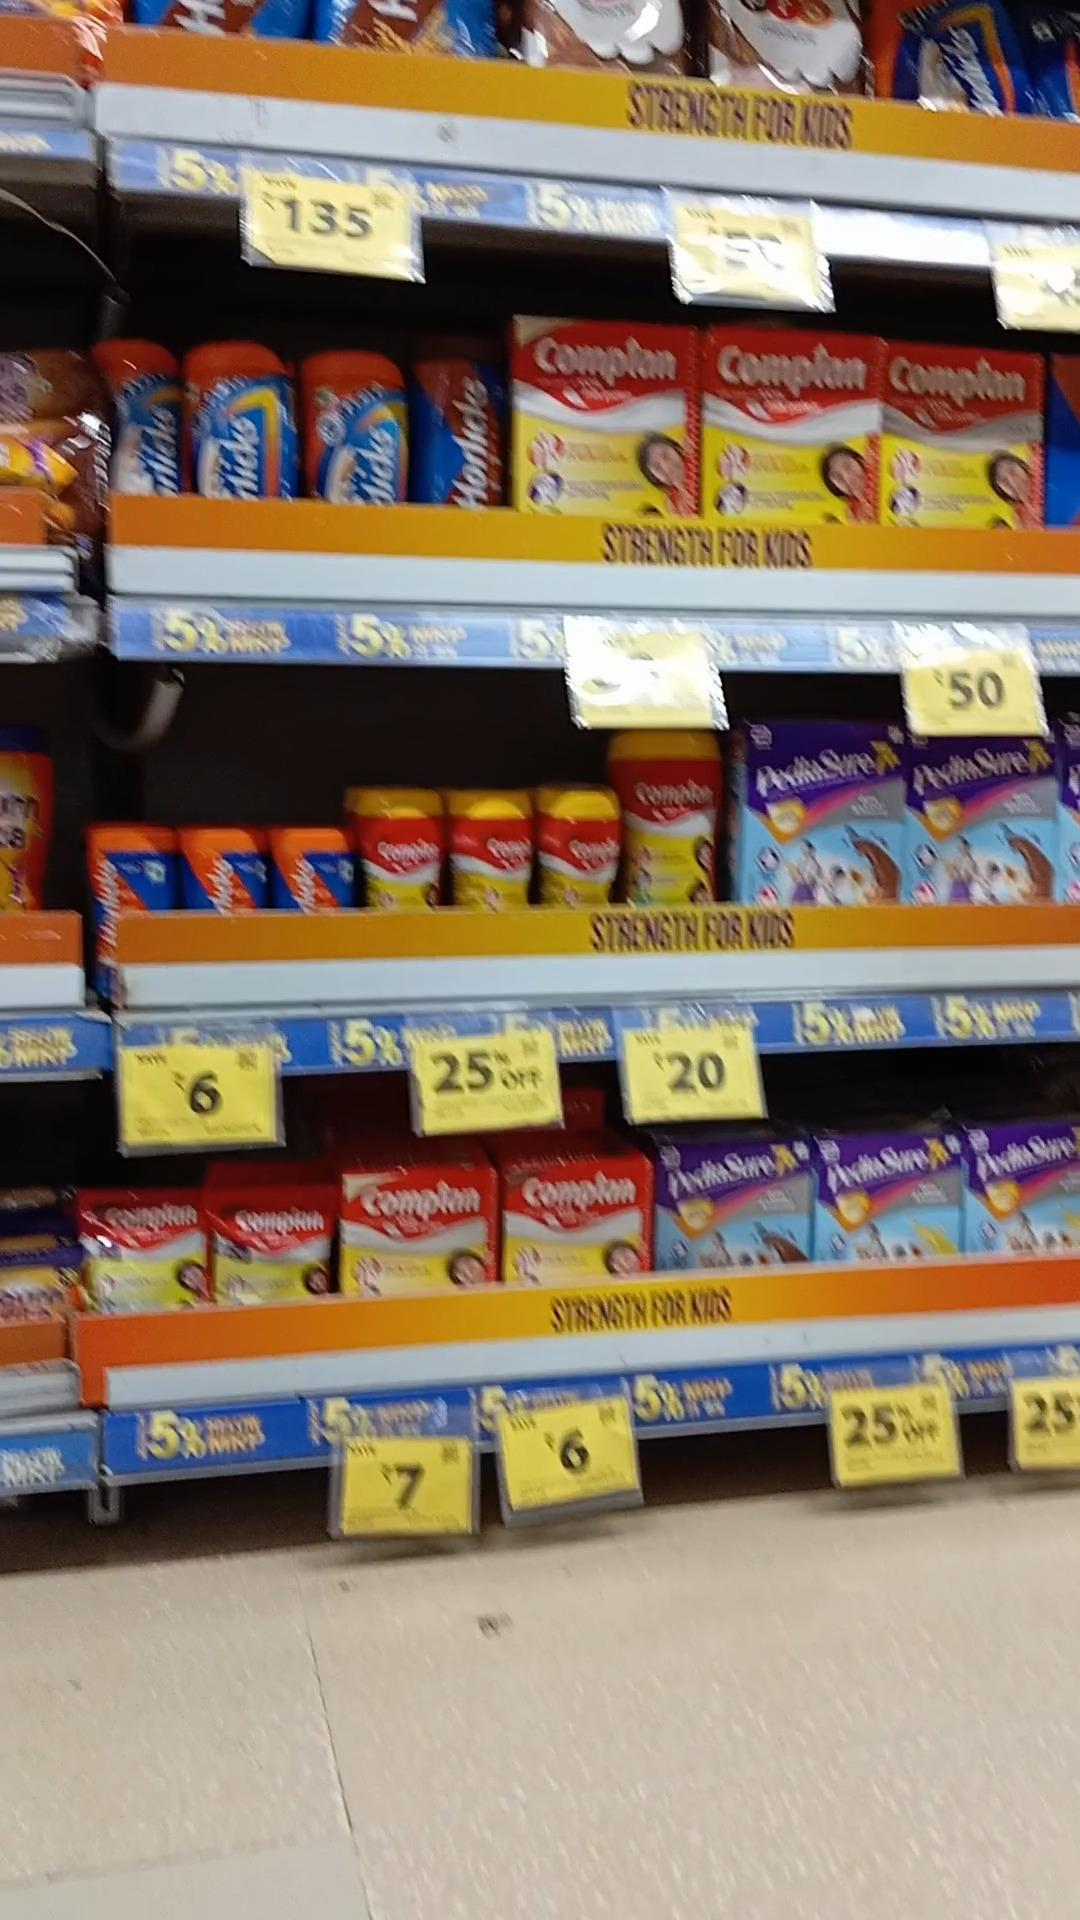COMPLAN_CHOCOLATE_200_GMS_JAR: (369, 791, 444, 913), (556, 785, 622, 911), (475, 799, 538, 916)
COMPLAN_CHOCOLATE_500_GMS_JAR: (629, 729, 720, 920)
COMPLAN_KESAR_BADAM_500_GMS_PACK: (514, 314, 698, 513)
HORLICK_CHOCOLATE_500_G_JAR: (419, 331, 505, 508)
HORLICK_CLASSIC_MALT_500_G_JAR: (307, 349, 410, 506), (186, 339, 284, 501)
PEDIASURE_7_PLUS_CHOCOLATE_400_G_PACK: (902, 732, 1054, 906), (753, 721, 894, 905)
